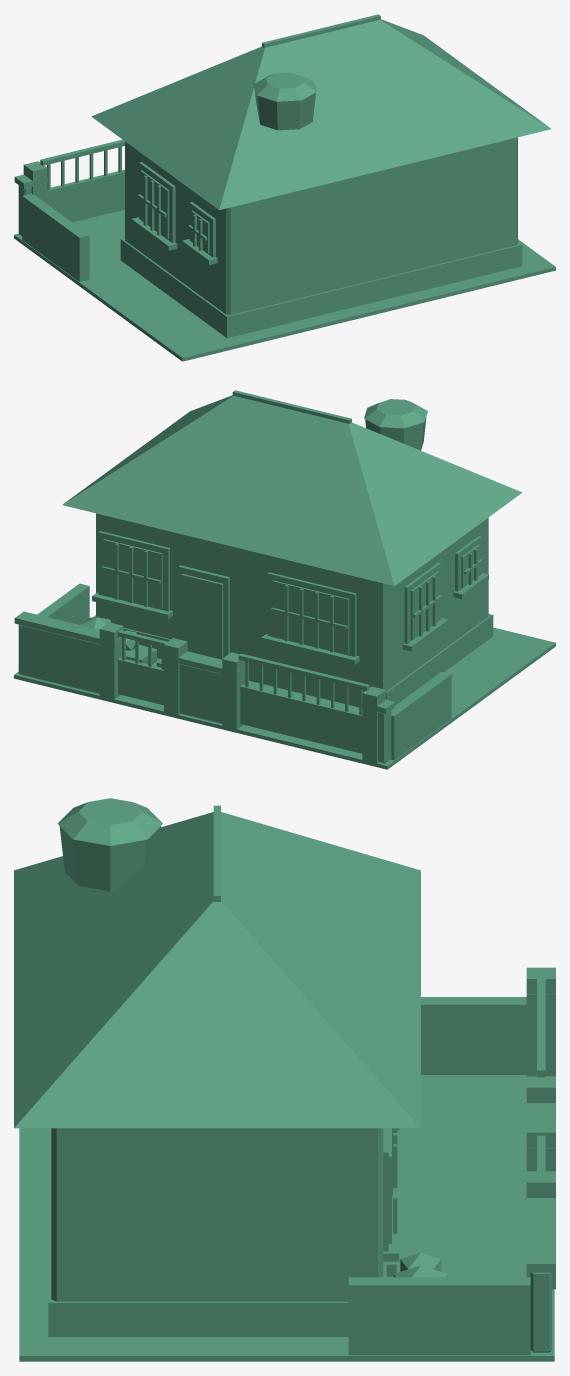
3 views of the same model, one above another, from view 1: azimuth 30°, elevation 25°; view 2: azimuth 150°, elevation 25°; view 3: azimuth 270°, elevation 25° (orthographic). The views are drawn at different scales.
Parts seen in each view (by area): view 1: corpo; view 2: corpo; view 3: corpo.
Boxes of the visible parts, x1=… form: corpo: x1=14, y1=14, x2=555, y2=361; corpo: x1=14, y1=390, x2=555, y2=769; corpo: x1=14, y1=798, x2=555, y2=1361.
Size of the model in its own units: 1.28 by 0.778 by 1.01.
